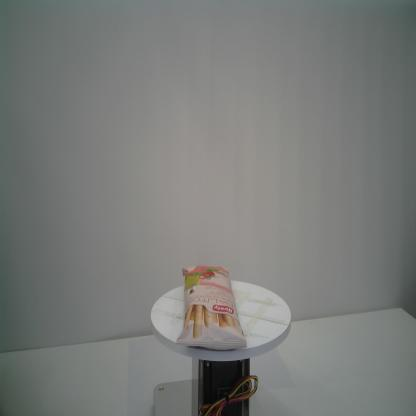Dessert: (174, 262, 249, 350)
